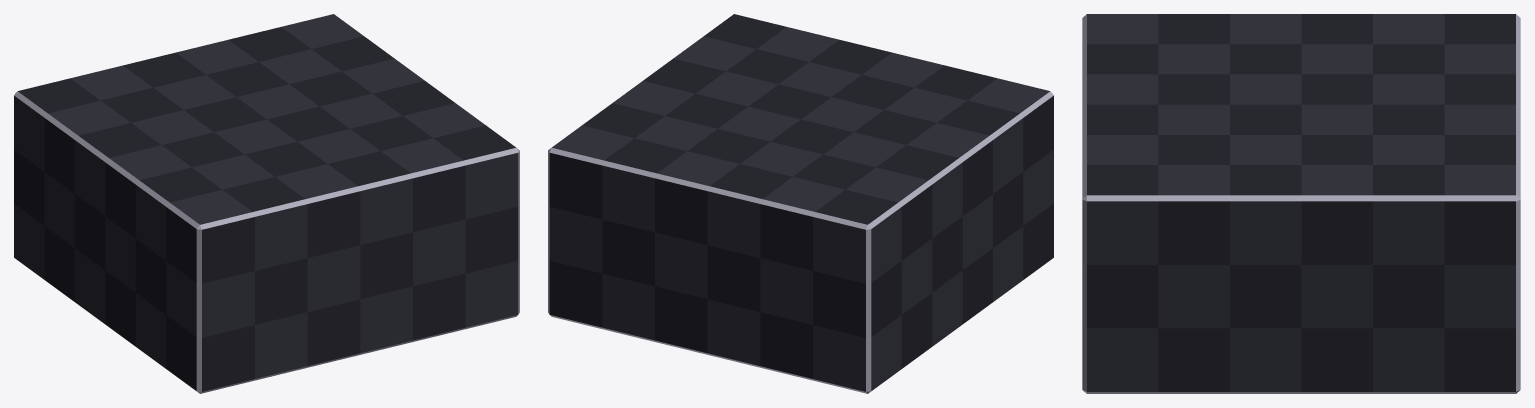
File: PMP-M-Ground-Main-2x2x1-V1.fbx
The picture shows the model from 3 angles, left to right: view 1: azimuth 30°, elevation 25°; view 2: azimuth 150°, elevation 25°; view 3: azimuth 270°, elevation 25°; orthographic projection. The views are drawn at different scales.
Parts seen in each view (by area): view 1: MONO_Terrain-A-2x2x1; view 2: MONO_Terrain-A-2x2x1; view 3: MONO_Terrain-A-2x2x1.
Part boxes in pixels (x1,y1,x2,y2): MONO_Terrain-A-2x2x1: (14, 14, 519, 393); MONO_Terrain-A-2x2x1: (548, 14, 1053, 393); MONO_Terrain-A-2x2x1: (1082, 14, 1520, 393).
Size of the model in its own units: 200 by 100 by 200.
